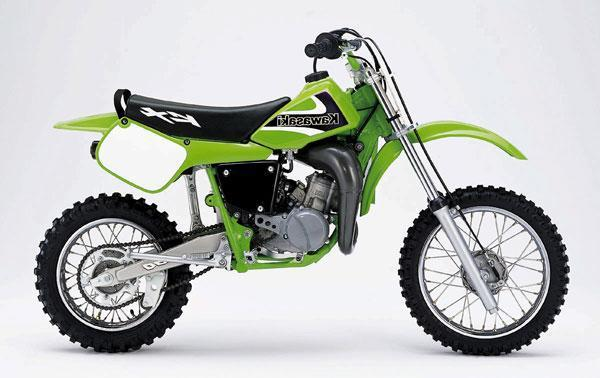motorcycle: (23, 15, 579, 372)
